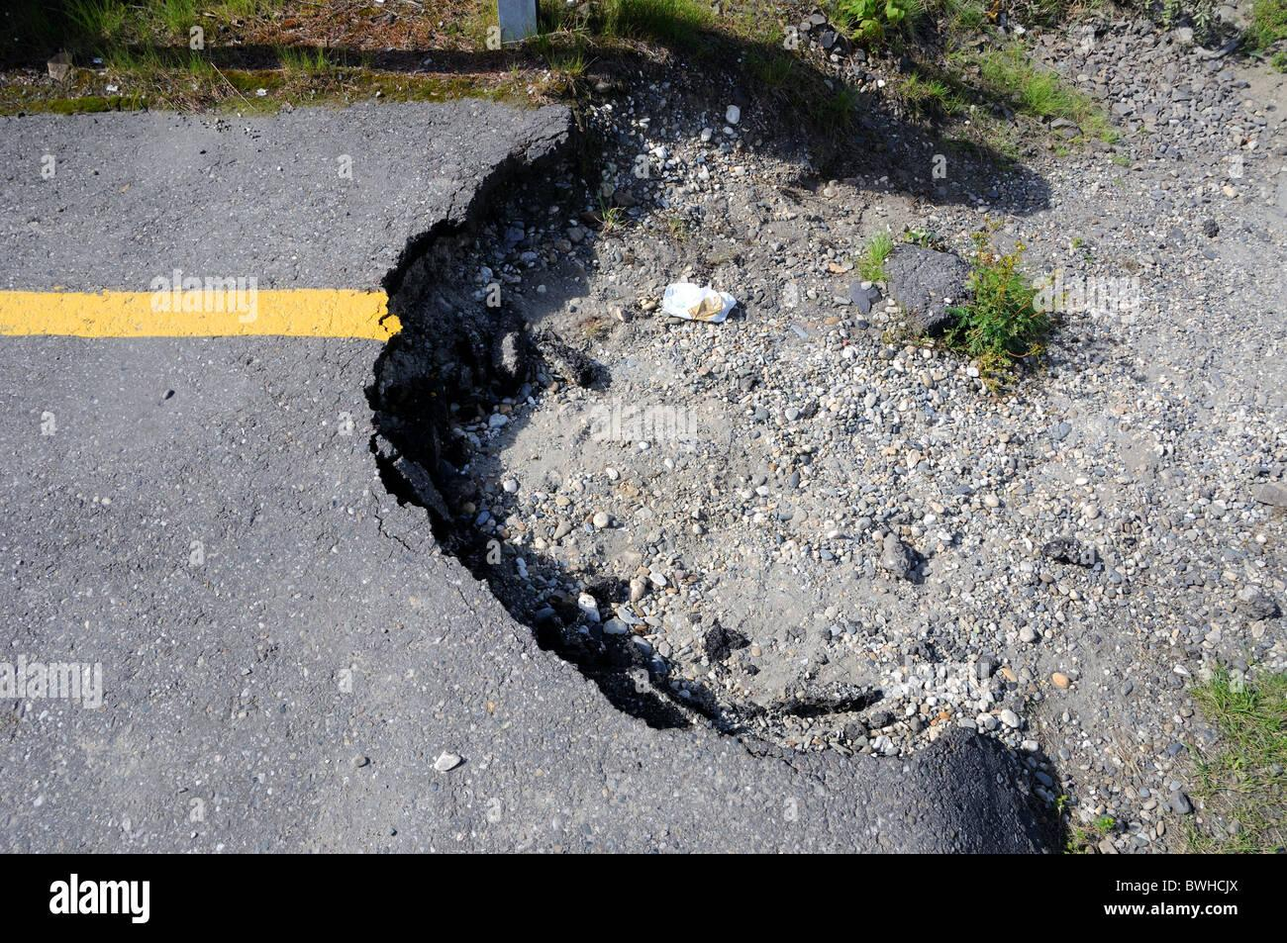damageroad: (381, 153, 1135, 736)
